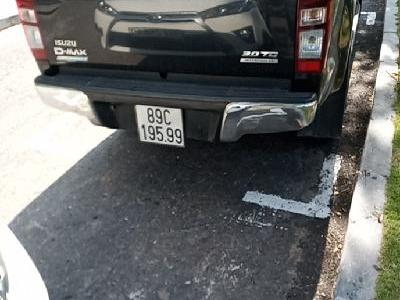lisence: (134, 103, 187, 150)
